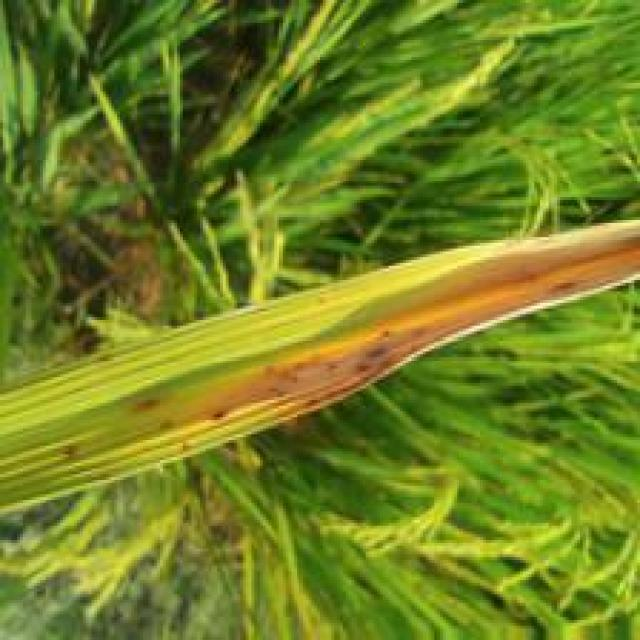Bacterial_Leaf_Blight: (259, 219, 640, 417)
